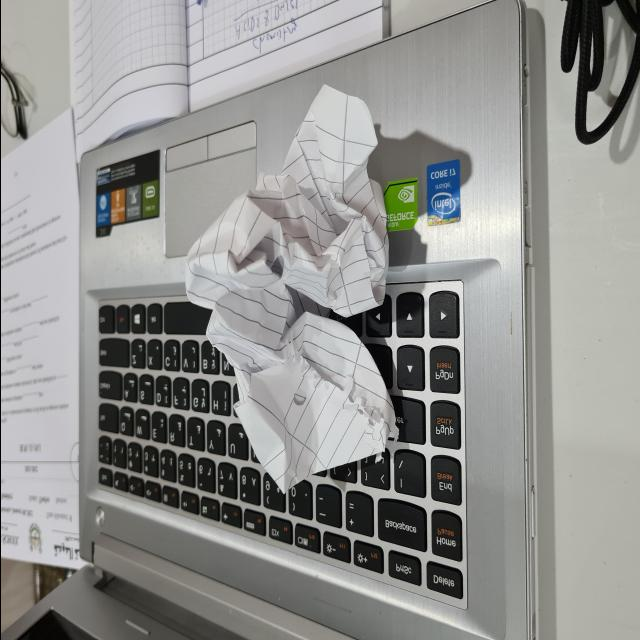kertas: (186, 86, 384, 486)
